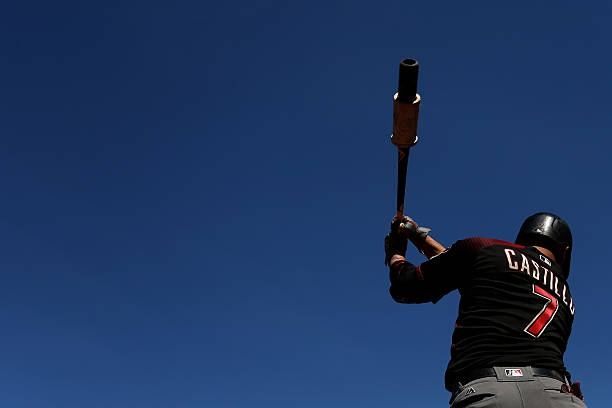bita: (383, 57, 418, 223)
